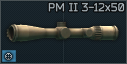Schmidt & Bender PM II 3-12x50 scope: (0, 0, 127, 64)
